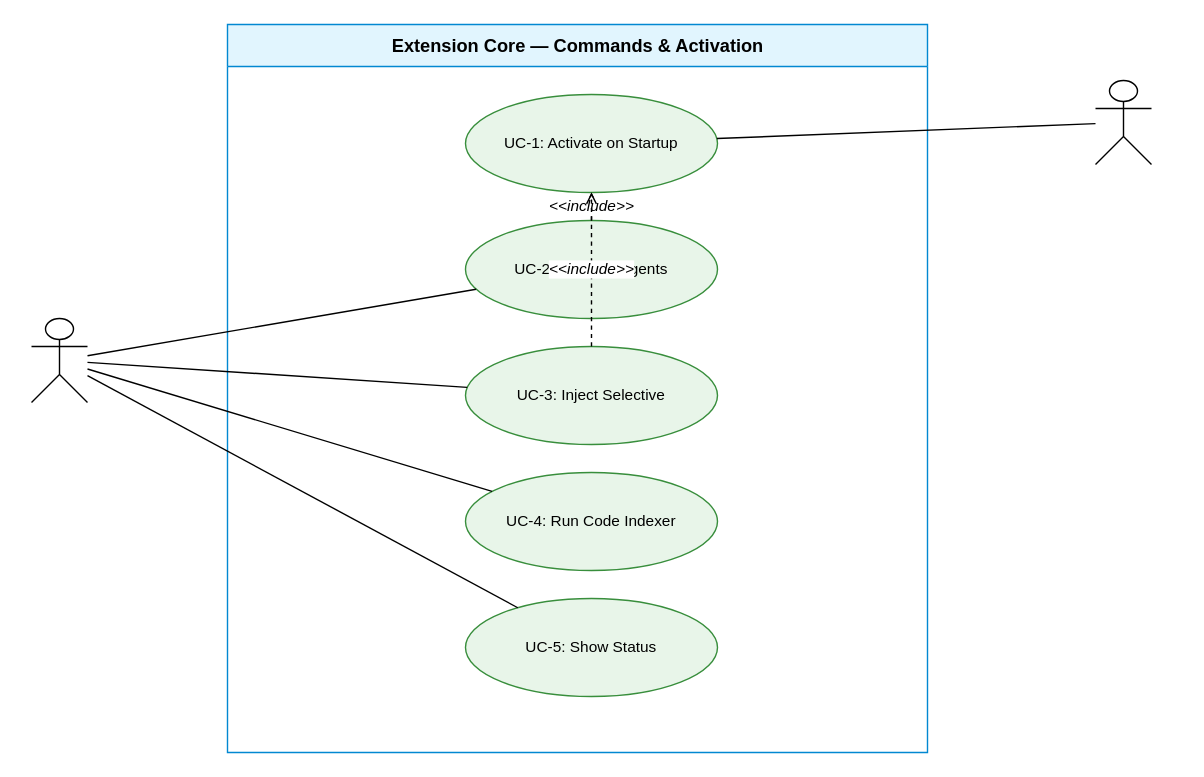
Some shapes in this 1204 by 777 pixel diagram are drawn without their labels. Here are the shapes that lost their labels. From the top down, the centre of each, then its label:
At point (1123, 121): "VS Code Engine".
At point (59, 359): "Developer".
